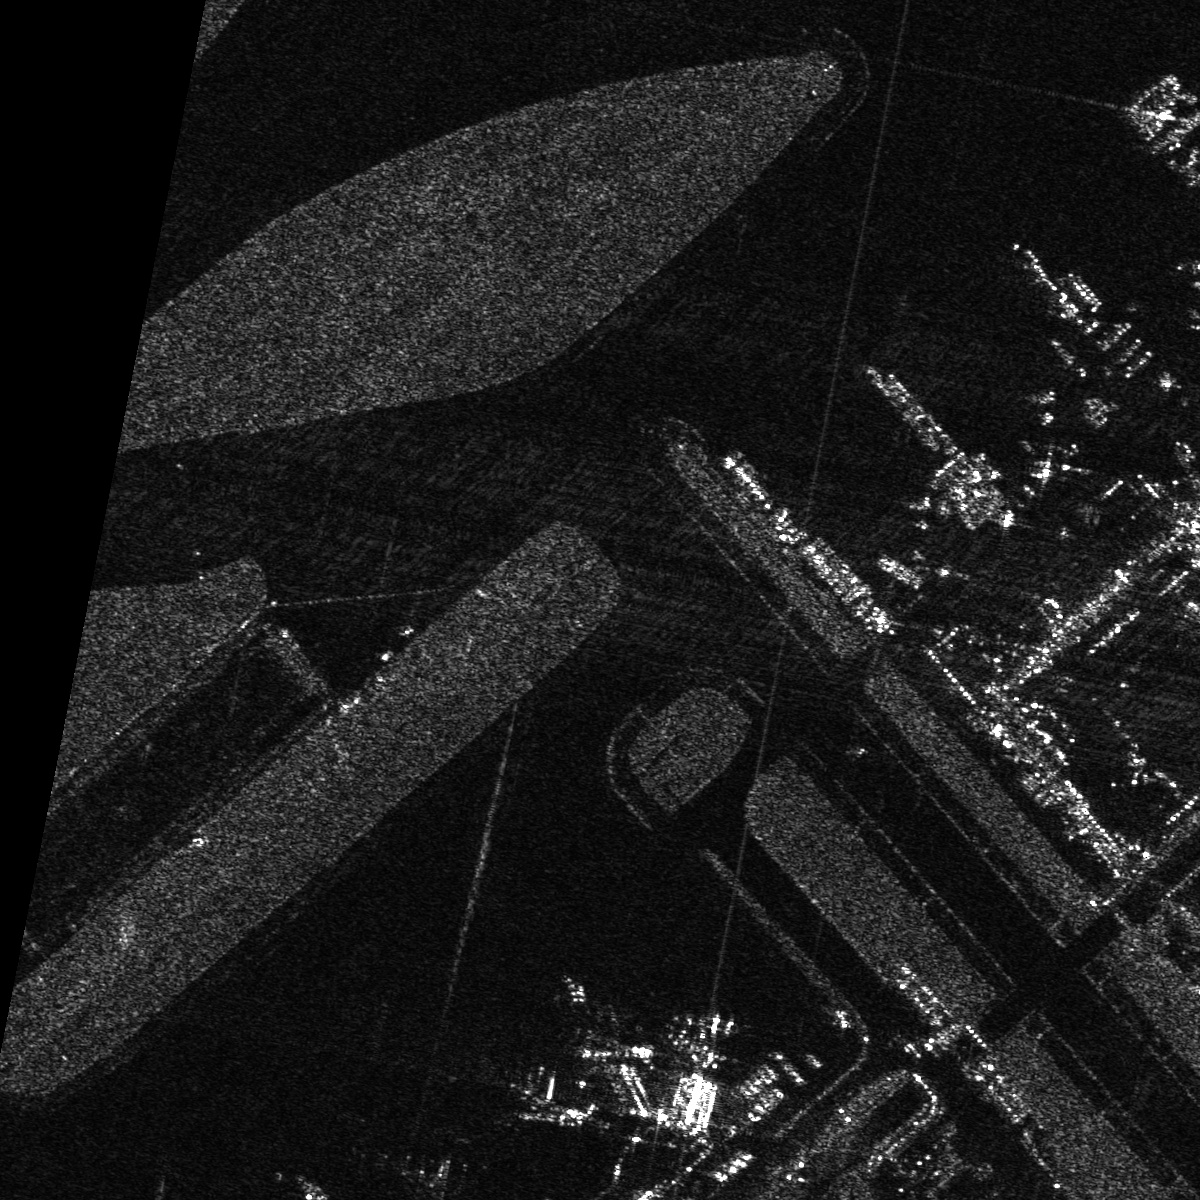Boeing737: (576, 1001, 657, 1070), (508, 1062, 562, 1131)
Boeing787: (669, 1003, 754, 1073)
